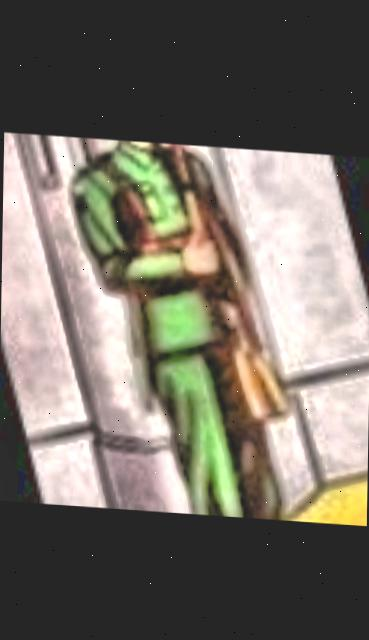El Soldado: (0, 134, 369, 520)
